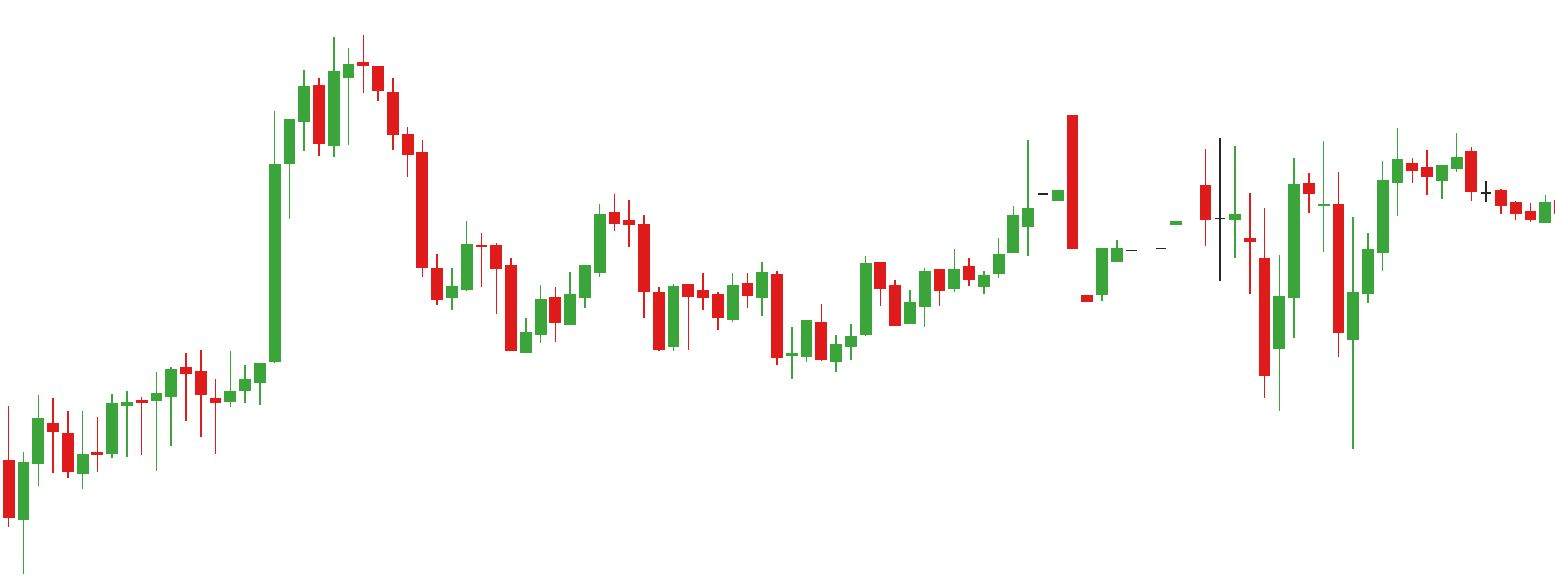buy: (1257, 228, 1361, 450), (663, 292, 815, 390)
sell: (457, 190, 634, 283)
